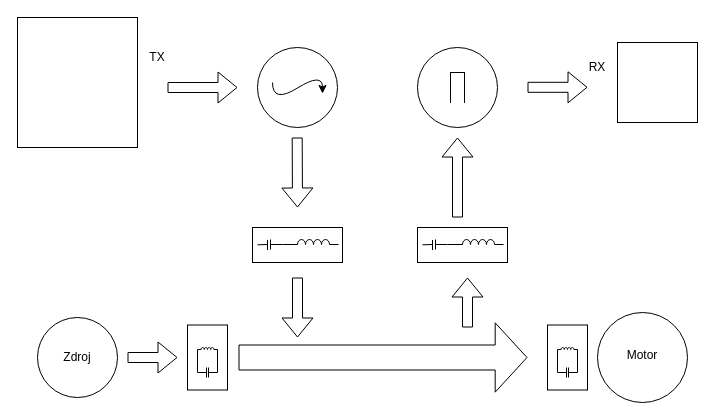
This 715x420 diagram has some shape labels left out. The centre of each missing label's shape, as x and y in pixels:
"Arduino mega" goes at point 77,82.
"Arduino micro" goes at point 657,82.
